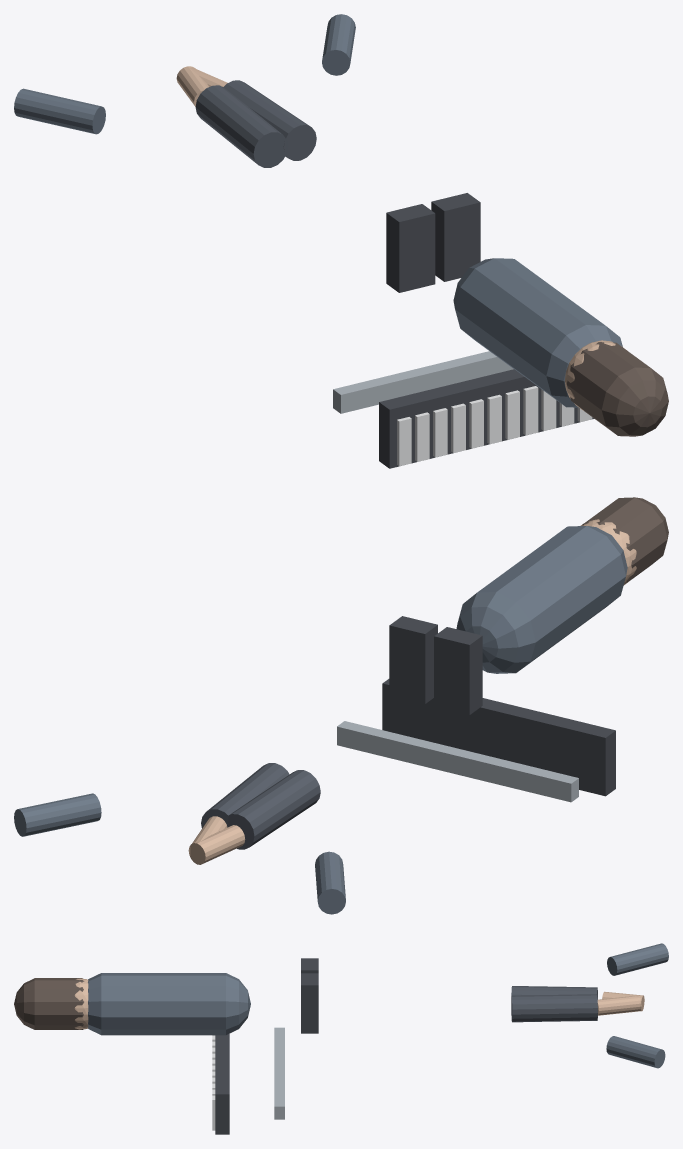
The model's file is keyboardist.glb.
3 renders of one model, top to bottom at view 1: azimuth 30°, elevation 25°; view 2: azimuth 150°, elevation 25°; view 3: azimuth 270°, elevation 25°, orthographic. The views are drawn at different scales.
Parts seen in each view (by area): view 1: Keyboardist_torso, Keyboardist_hair, keyboard_body, keyboard_stand, Keyboardist_shoe_L, Keyboardist_leg_R, Keyboardist_shoe_R, Keyboardist_upper_arm_L, Keyboardist_leg_L, Keyboardist_upper_arm_R, key_7, key_1 (+7 smaller); view 2: Keyboardist_torso, keyboard_body, keyboard_stand, Keyboardist_shoe_L, Keyboardist_shoe_R, Keyboardist_leg_R, Keyboardist_hair, Keyboardist_upper_arm_R, Keyboardist_leg_L, Keyboardist_upper_arm_L, Keyboardist_forearm_R, Keyboardist_head; view 3: Keyboardist_torso, Keyboardist_hair, Keyboardist_leg_L, keyboard_body, Keyboardist_upper_arm_L, Keyboardist_upper_arm_R, Keyboardist_shoe_R, keyboard_stand, Keyboardist_leg_R, Keyboardist_forearm_L, Keyboardist_head.
Part boxes in pixels (bbox=[...]): Keyboardist_torso: bbox=[453, 258, 622, 407]; Keyboardist_hair: bbox=[566, 342, 668, 436]; keyboard_body: bbox=[379, 369, 594, 468]; keyboard_stand: bbox=[333, 351, 513, 413]; Keyboardist_shoe_L: bbox=[386, 204, 435, 292]; Keyboardist_leg_R: bbox=[195, 85, 288, 167]; Keyboardist_shoe_R: bbox=[431, 193, 480, 281]; Keyboardist_upper_arm_L: bbox=[14, 88, 105, 134]; Keyboardist_leg_L: bbox=[223, 80, 316, 160]; Keyboardist_upper_arm_R: bbox=[322, 14, 355, 75]; key_7: bbox=[523, 386, 538, 435]; key_1: bbox=[415, 412, 429, 461]; Keyboardist_torso: bbox=[456, 526, 627, 673]; keyboard_body: bbox=[382, 679, 615, 796]; keyboard_stand: bbox=[337, 721, 578, 802]; Keyboardist_shoe_L: bbox=[434, 627, 482, 714]; Keyboardist_shoe_R: bbox=[389, 616, 437, 703]; Keyboardist_leg_R: bbox=[228, 770, 320, 849]; Keyboardist_hair: bbox=[582, 497, 668, 582]; Keyboardist_upper_arm_R: bbox=[14, 793, 101, 836]; Keyboardist_leg_L: bbox=[201, 763, 289, 828]; Keyboardist_upper_arm_L: bbox=[315, 851, 345, 914]; Keyboardist_forearm_R: bbox=[188, 825, 245, 864]; Keyboardist_head: bbox=[580, 519, 636, 585]; Keyboardist_torso: bbox=[88, 973, 250, 1035]; Keyboardist_hair: bbox=[14, 978, 84, 1029]; Keyboardist_leg_L: bbox=[511, 994, 597, 1022]; keyboard_body: bbox=[215, 1033, 229, 1134]; Keyboardist_upper_arm_L: bbox=[607, 943, 668, 975]; Keyboardist_upper_arm_R: bbox=[606, 1036, 665, 1068]; Keyboardist_shoe_R: bbox=[301, 973, 318, 1033]; keyboard_stand: bbox=[274, 1027, 284, 1119]; Keyboardist_leg_R: bbox=[511, 986, 597, 999]; Keyboardist_forearm_L: bbox=[597, 996, 641, 1015]; Keyboardist_head: bbox=[74, 978, 88, 1029].
Bounding box in the file's own units: 1.5 × 0.775 × 3.67.
